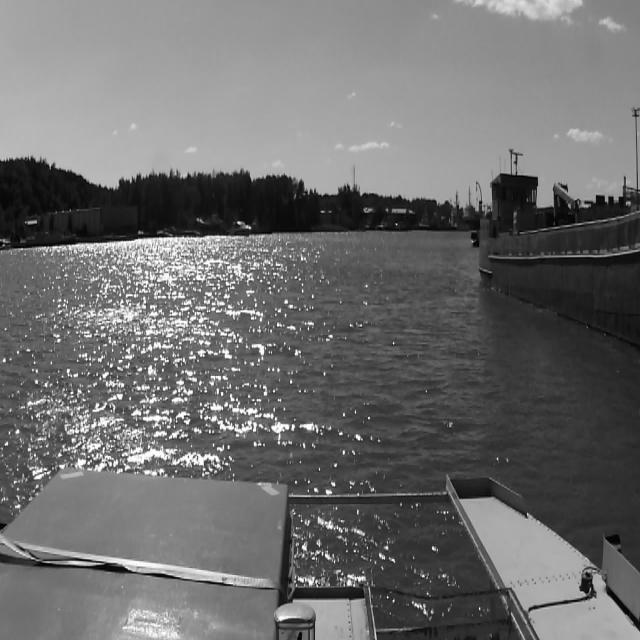ship: (479, 171, 637, 353), (230, 220, 252, 238)
